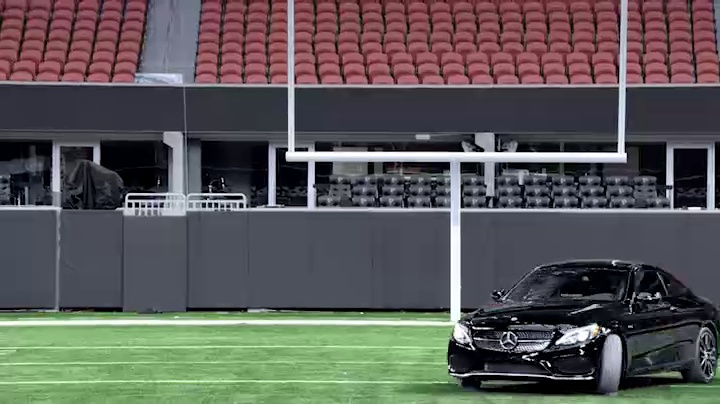amg: (442, 257, 719, 400)
